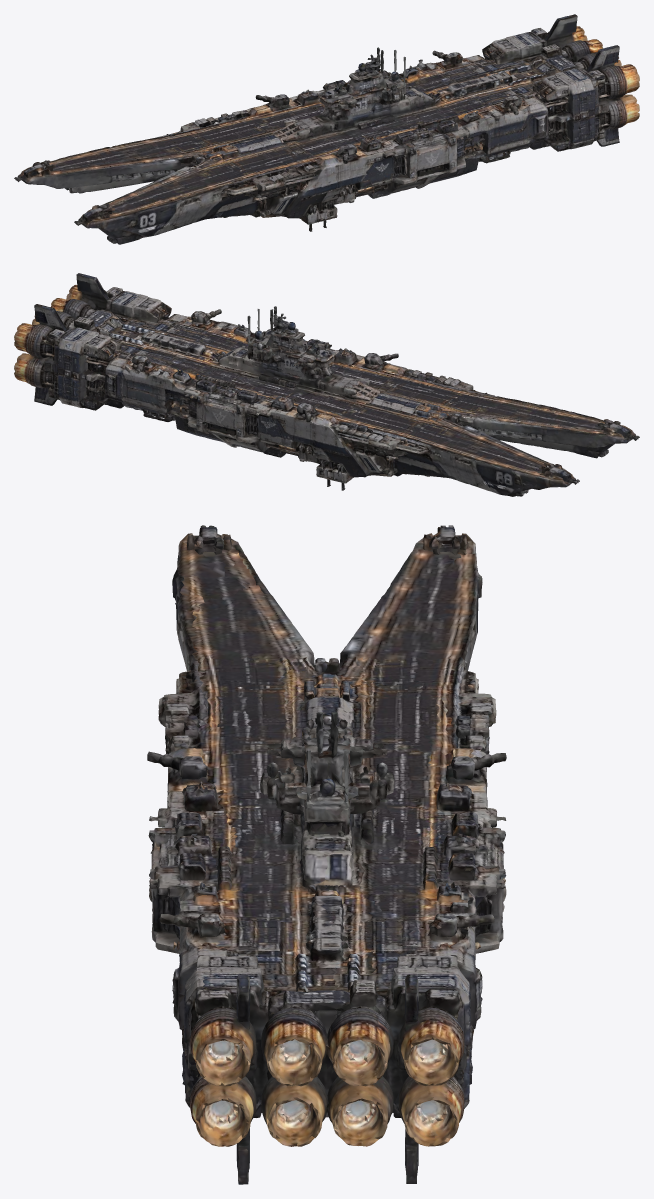
The model's file is ship.glb.
3 renders of one model, top to bottom at view 1: azimuth 30°, elevation 25°; view 2: azimuth 150°, elevation 25°; view 3: azimuth 270°, elevation 25°, orthographic. The views are drawn at different scales.
Visible parts, largest first — view 1: geometry_0; view 2: geometry_0; view 3: geometry_0.
Boxes of the visible parts, x1,y1,x2,y2 form: geometry_0: (14,14,639,244); geometry_0: (14,273,639,496); geometry_0: (147,525,506,1184).
Size of the model in its own units: 0.9871 by 0.2275 by 0.2732.
1 material, 1 textured.
